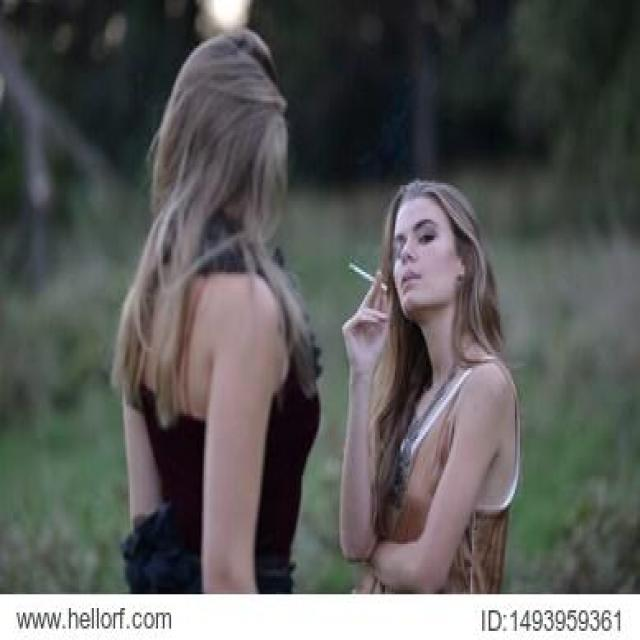Сигарета: (347, 263, 388, 295)
Тело: (114, 29, 318, 600), (342, 178, 522, 594)
